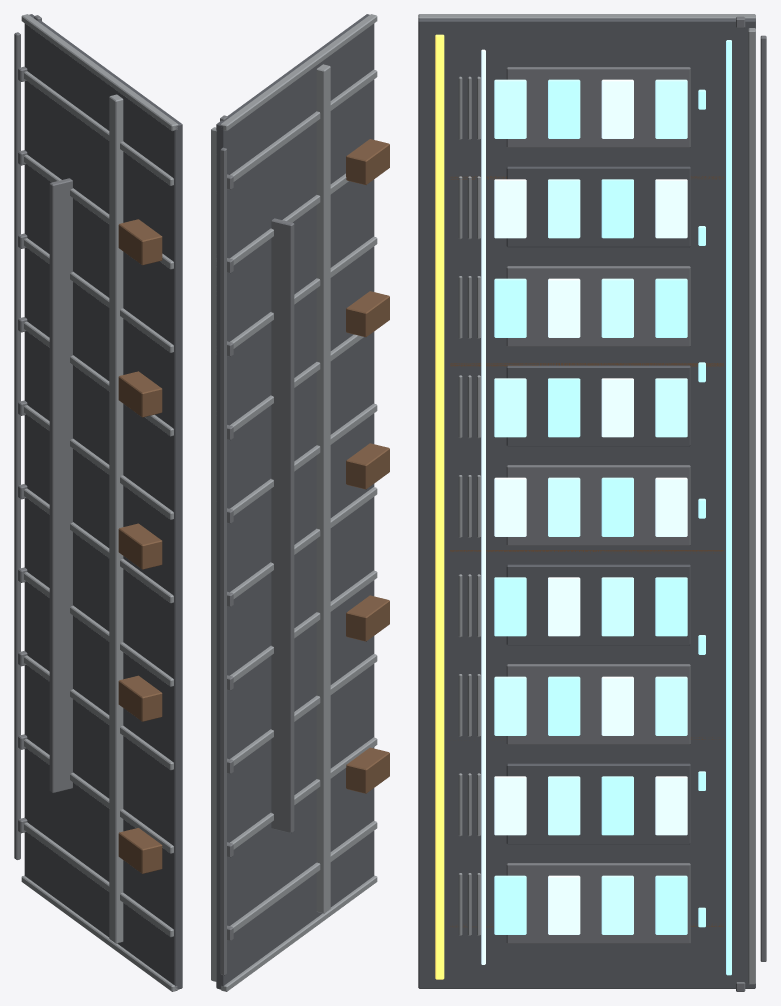
File: wall_ribbon_yard_l.glb
The picture shows the model from 3 angles, left to right: view 1: azimuth 30°, elevation 25°; view 2: azimuth 150°, elevation 25°; view 3: azimuth 270°, elevation 25°; orthographic projection. The views are drawn at different scales.
Visible parts, largest first — view 1: WallRibbon_yard_L; view 2: WallRibbon_yard_L; view 3: WallRibbon_yard_L.
Part boxes in pixels (bbox=[...]): WallRibbon_yard_L: bbox=[14, 14, 182, 991]; WallRibbon_yard_L: bbox=[211, 14, 389, 991]; WallRibbon_yard_L: bbox=[418, 14, 766, 991].
Bounding box in the file's own units: 0.675 × 14 × 4.54.
